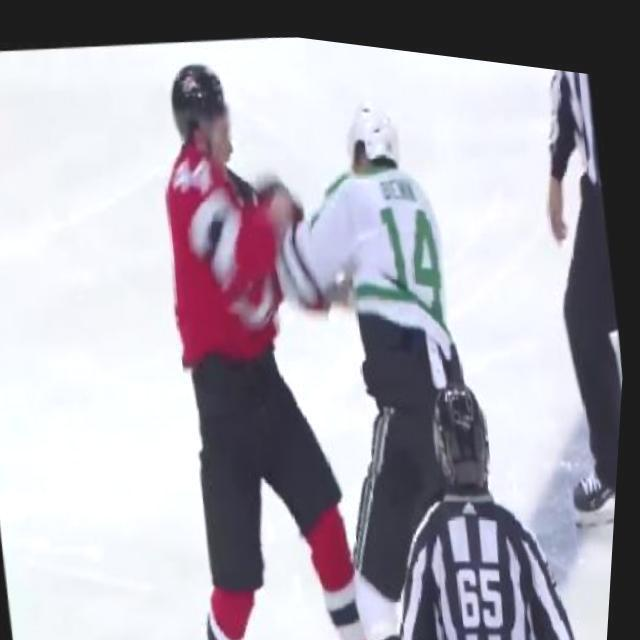fight: (121, 15, 512, 598)
